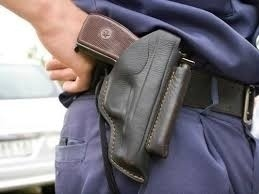pistol: (70, 10, 187, 186)
